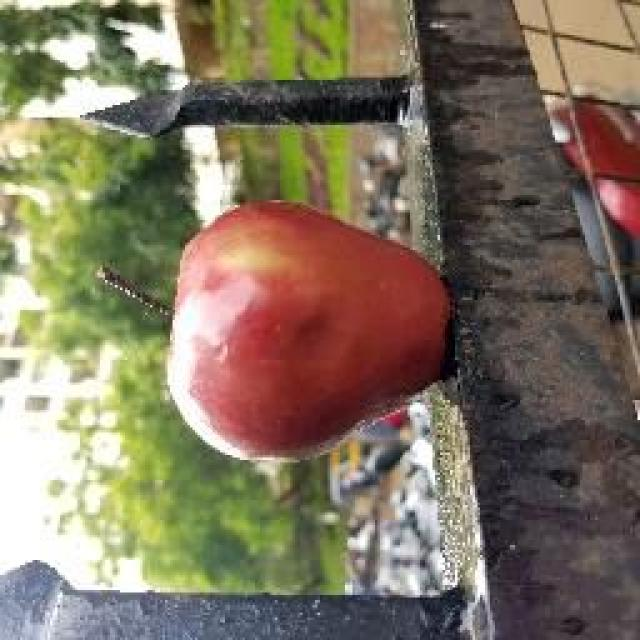Good_Apple: (165, 200, 455, 465)
